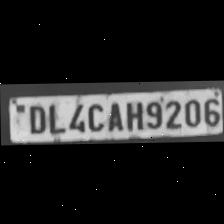0: (181, 96, 201, 126)
2: (161, 96, 181, 128)
4: (64, 99, 84, 130)
6: (200, 94, 220, 125)
9: (142, 98, 162, 128)
A: (104, 98, 124, 130)
C: (84, 99, 104, 130)
D: (24, 102, 46, 134)
H: (122, 97, 144, 128)
L: (44, 100, 64, 132)
